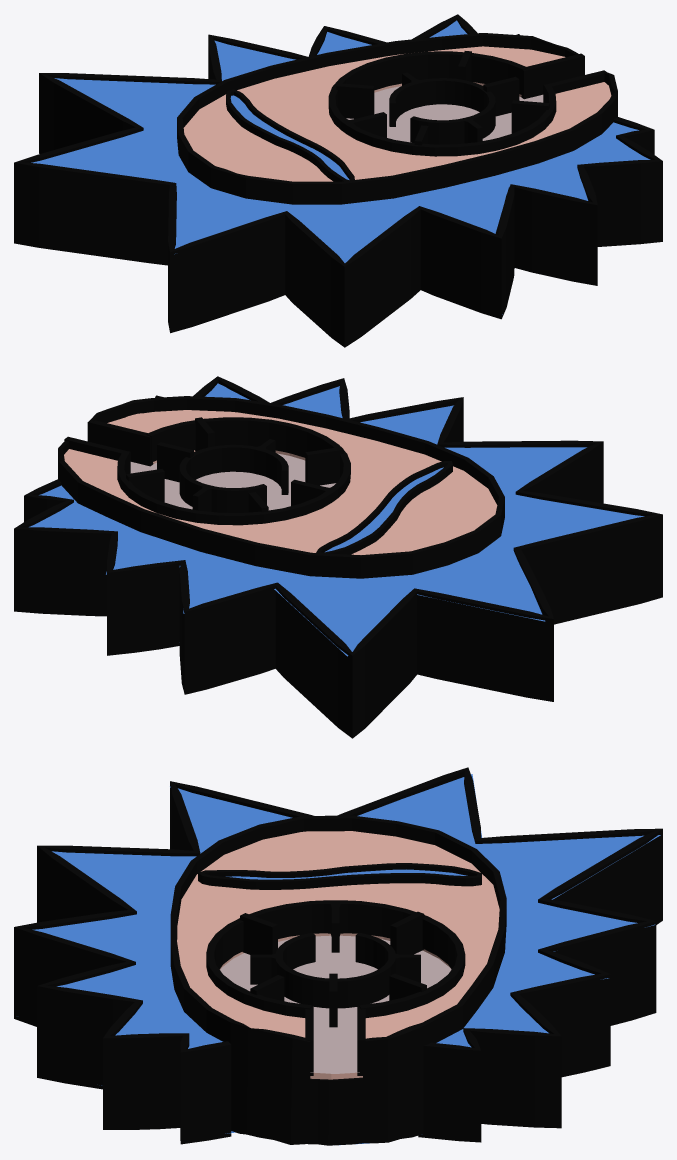
File: Rick2.fbx
The picture shows the model from 3 angles, top to bottom: view 1: azimuth 30°, elevation 25°; view 2: azimuth 150°, elevation 25°; view 3: azimuth 270°, elevation 25°; orthographic projection. The views are drawn at different scales.
Visible parts, largest first — view 1: Cube.001, Плоскость.003, Куб.003, Куб, Окружность.001, Окружность, Окружность.002, Куб.001, Куб.004, Куб.007, Плоскость.002, Куб.006 (+2 smaller); view 2: Cube.001, Плоскость.003, Куб.003, Куб, Окружность.001, Окружность, Окружность.002, Куб.001, Куб.002, Куб.009, Плоскость.002, Куб.006 (+3 smaller); view 3: Cube.001, Плоскость.003, Куб, Куб.003, Окружность.001, Окружность, Окружность.002, Куб.001, Куб.009, Куб.007, Куб.005, Плоскость.002 (+2 smaller).
Part boxes in pixels (<box>): Cube.001: <box>14,14,662,347</box>; Плоскость.003: <box>31,20,650,262</box>; Куб.003: <box>183,46,611,181</box>; Куб: <box>177,33,617,263</box>; Окружность.001: <box>328,51,556,156</box>; Окружность: <box>389,72,495,144</box>; Окружность.002: <box>346,86,543,142</box>; Куб.001: <box>226,89,354,181</box>; Куб.004: <box>521,53,584,99</box>; Куб.007: <box>336,83,374,118</box>; Плоскость.002: <box>230,95,349,179</box>; Куб.006: <box>483,76,519,116</box>; Cube.001: <box>14,376,662,738</box>; Плоскость.003: <box>29,383,644,656</box>; Куб.003: <box>64,410,497,554</box>; Куб: <box>58,396,504,578</box>; Окружность.001: <box>117,417,350,525</box>; Окружность: <box>179,439,288,512</box>; Окружность.002: <box>130,453,335,510</box>; Куб.001: <box>316,461,452,554</box>; Куб.002: <box>87,419,153,466</box>; Куб.009: <box>305,447,343,485</box>; Плоскость.002: <box>325,467,443,552</box>; Куб.006: <box>157,442,193,482</box>; Cube.001: <box>14,767,662,1144</box>; Плоскость.003: <box>32,774,660,1048</box>; Куб: <box>170,815,506,1145</box>; Куб.003: <box>177,831,499,1079</box>; Окружность.001: <box>206,900,465,1017</box>; Окружность: <box>250,932,420,1008</box>; Окружность.002: <box>220,935,451,1073</box>; Куб.001: <box>198,863,481,889</box>; Куб.009: <box>240,913,277,954</box>; Куб.007: <box>390,911,424,954</box>; Куб.005: <box>389,973,426,1000</box>; Плоскость.002: <box>226,869,467,879</box>.
Bounding box in the file's own units: 562 × 103 × 529.
